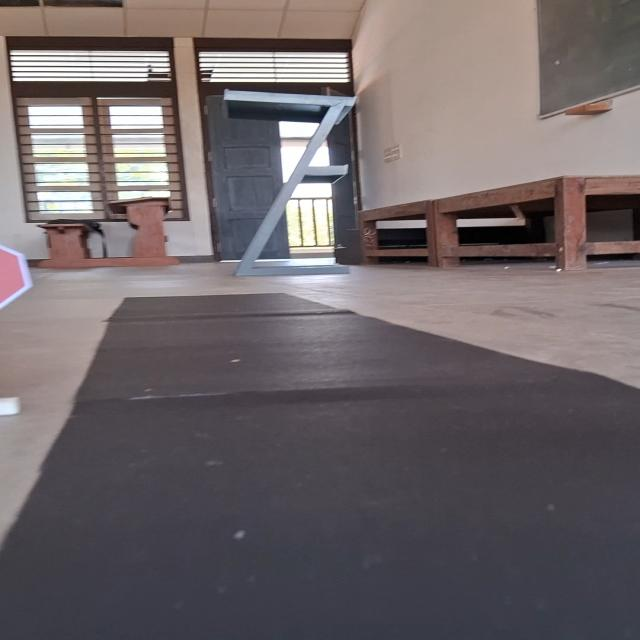Stop: (0, 236, 36, 322)
